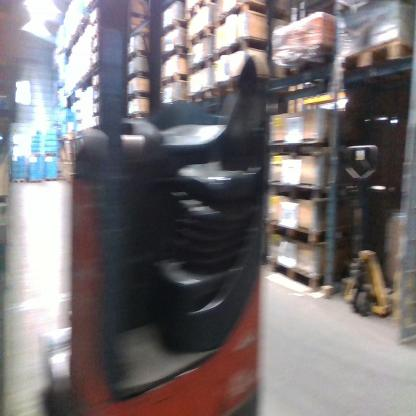forklift: (45, 1, 273, 415)
pallet: (338, 34, 415, 77), (264, 218, 357, 246), (266, 255, 326, 291), (268, 181, 353, 203), (272, 51, 334, 80), (216, 0, 272, 32), (213, 35, 271, 64), (268, 136, 336, 157), (187, 54, 216, 83), (186, 25, 216, 49), (186, 0, 215, 21), (187, 86, 218, 104), (160, 45, 188, 63), (159, 69, 188, 86), (160, 19, 187, 36), (126, 70, 150, 83), (126, 91, 150, 102), (127, 49, 149, 61), (127, 111, 149, 120), (92, 97, 101, 107), (90, 32, 98, 43), (12, 179, 26, 185), (90, 46, 98, 55), (45, 177, 58, 182), (45, 152, 58, 157), (93, 109, 100, 117), (29, 180, 42, 184), (93, 83, 99, 91)
pallet_truck: (339, 143, 394, 319)
